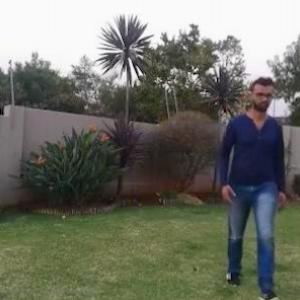follow: (229, 80, 285, 275)
